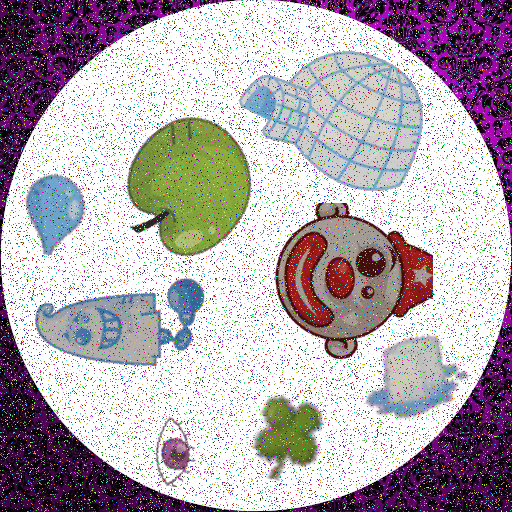apple_icon: (123, 115, 270, 262)
cloverleaf_icon: (235, 389, 327, 481)
clown_icon: (272, 203, 433, 364)
cube_icon: (356, 315, 470, 429)
eye_icon: (138, 417, 208, 487)
ghost_icon: (30, 232, 209, 411)
igloo_icon: (233, 22, 427, 216)
raindrop_icon: (12, 173, 94, 255)
